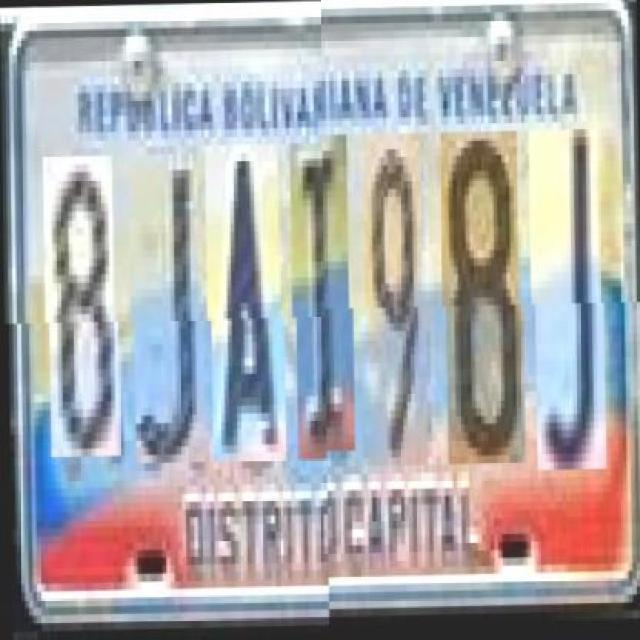8: (443, 140, 525, 474), (46, 155, 119, 457)
9: (366, 142, 426, 476)
a: (208, 146, 284, 462)
i: (294, 144, 354, 461)
j: (532, 139, 606, 481), (131, 154, 204, 463)
